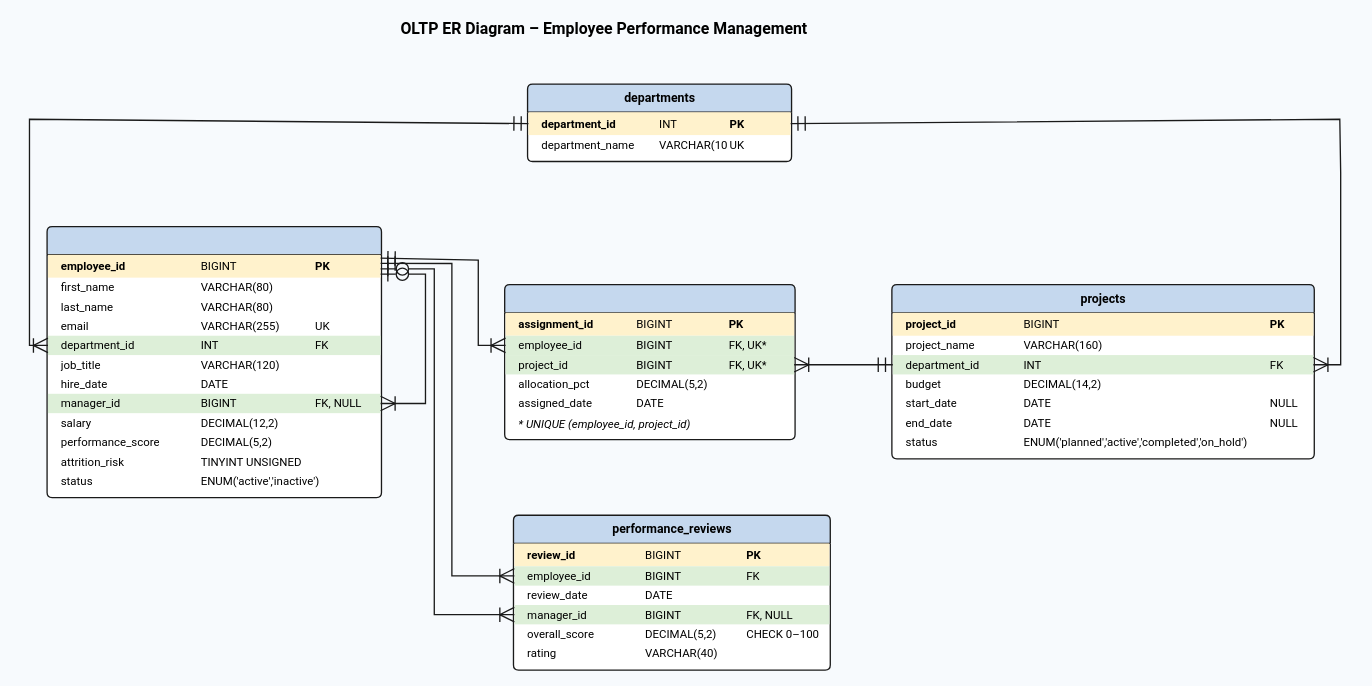
This 1372x686 diagram has some shape labels left out. Each missing label, with the box of its shape:
employees: (46, 226, 382, 498)
project_assignments: (504, 284, 795, 440)
